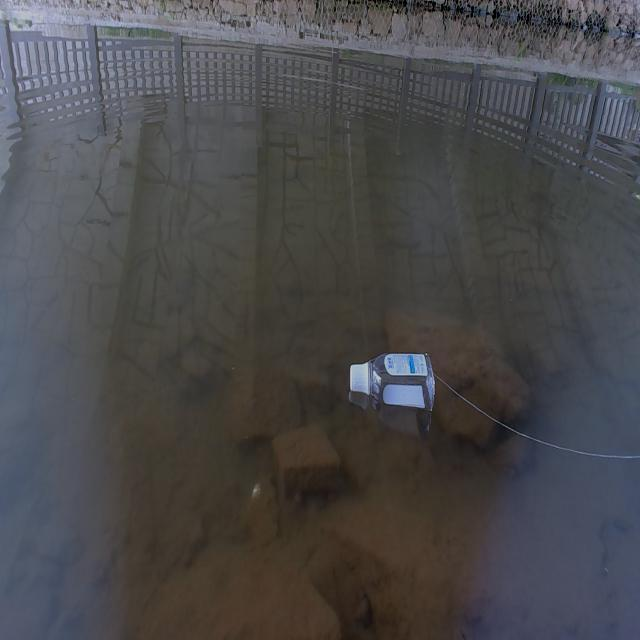bottle: (336, 342, 452, 406)
